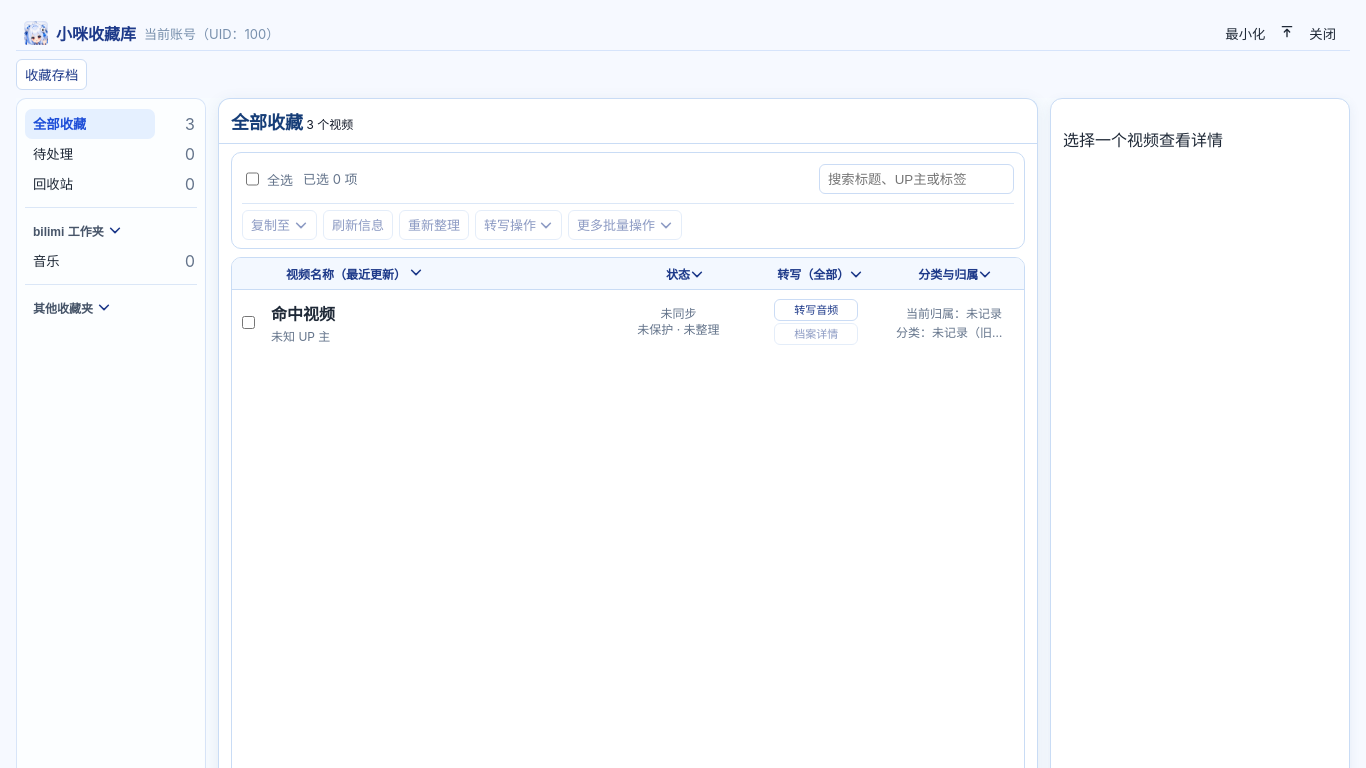
FavoriteLibraryApp › shows the folder total separately from filtered results in the workspace heading
The image size is (1366, 768).
Expected: the heading "全部收藏 3 个视频" is shown, [231, 111, 353, 135]
In the search field named "搜索收藏库": (916, 179) [819, 164, 1014, 194], type "命中"
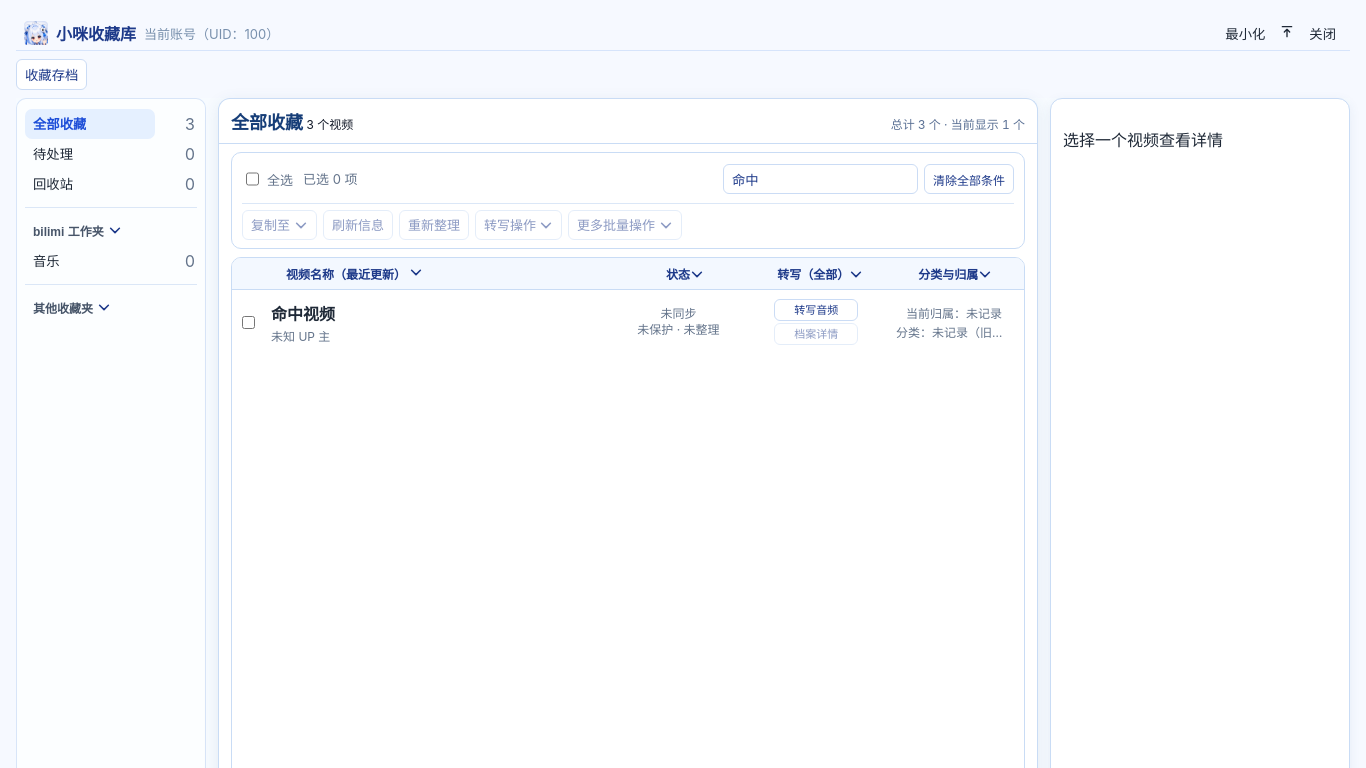
Expected: the text "总计 3 个 · 当前显示 1 个" is shown, [891, 115, 1025, 132]
